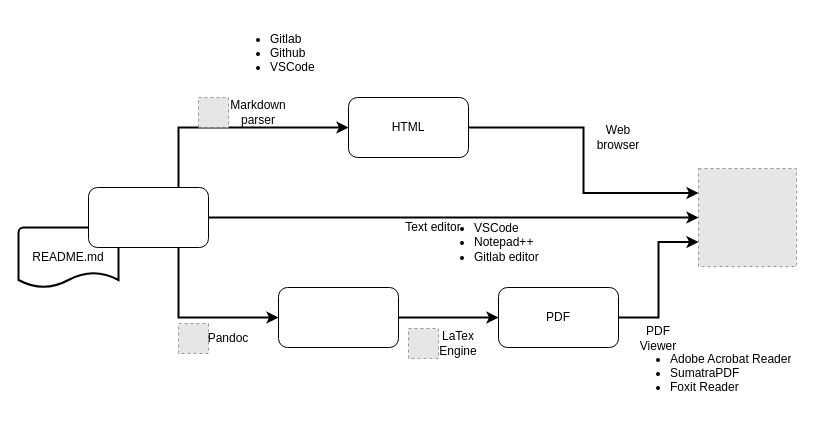
The diagram is 825 pixels wide and 424 high, and some of its shapes have lost their labels. Grey dashed boxes stand in for pictures. The shapes that lost their labels are listed below. From the top down, each one's centre as x and y in pixels, then its label:
At point (148, 217): "Markdown".
At point (338, 317): "LaTex".
